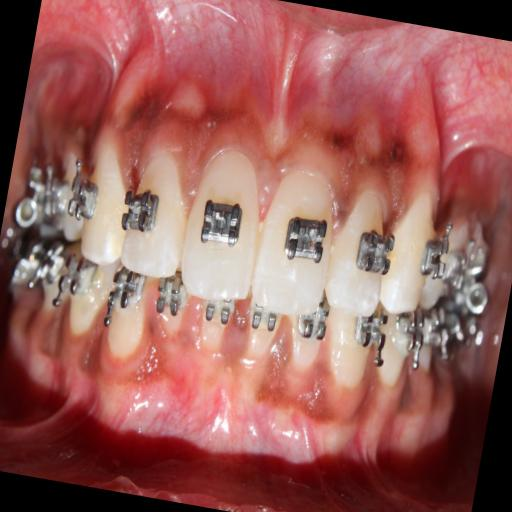correct_brace: (276, 207, 330, 273), (116, 177, 164, 247), (194, 192, 248, 254), (352, 224, 396, 278)
incorrect_brace: (106, 145, 197, 281), (321, 182, 404, 319)
